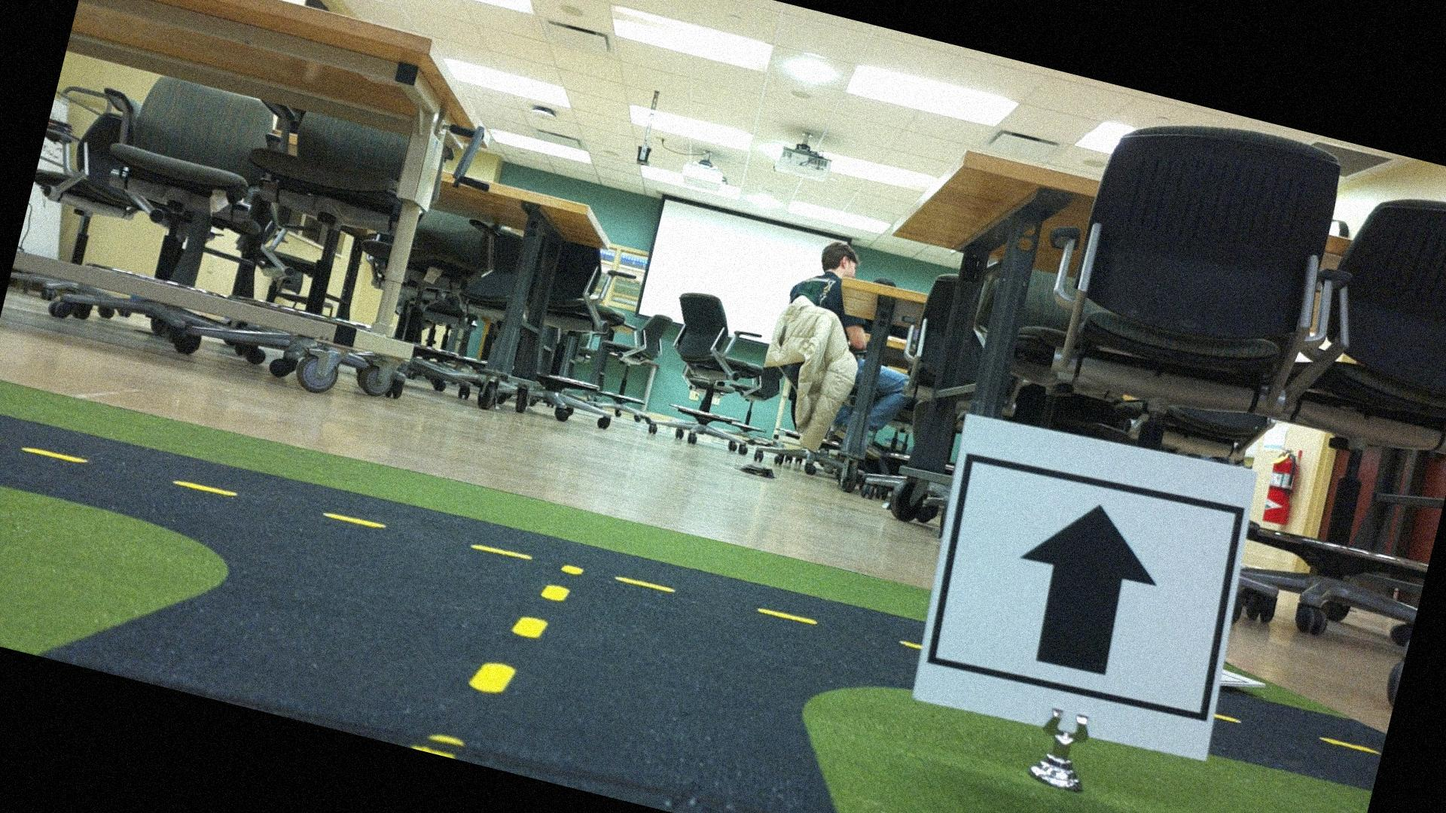gostraight: (914, 414, 1255, 754)
yellowline: (29, 422, 917, 669), (425, 540, 582, 778)
